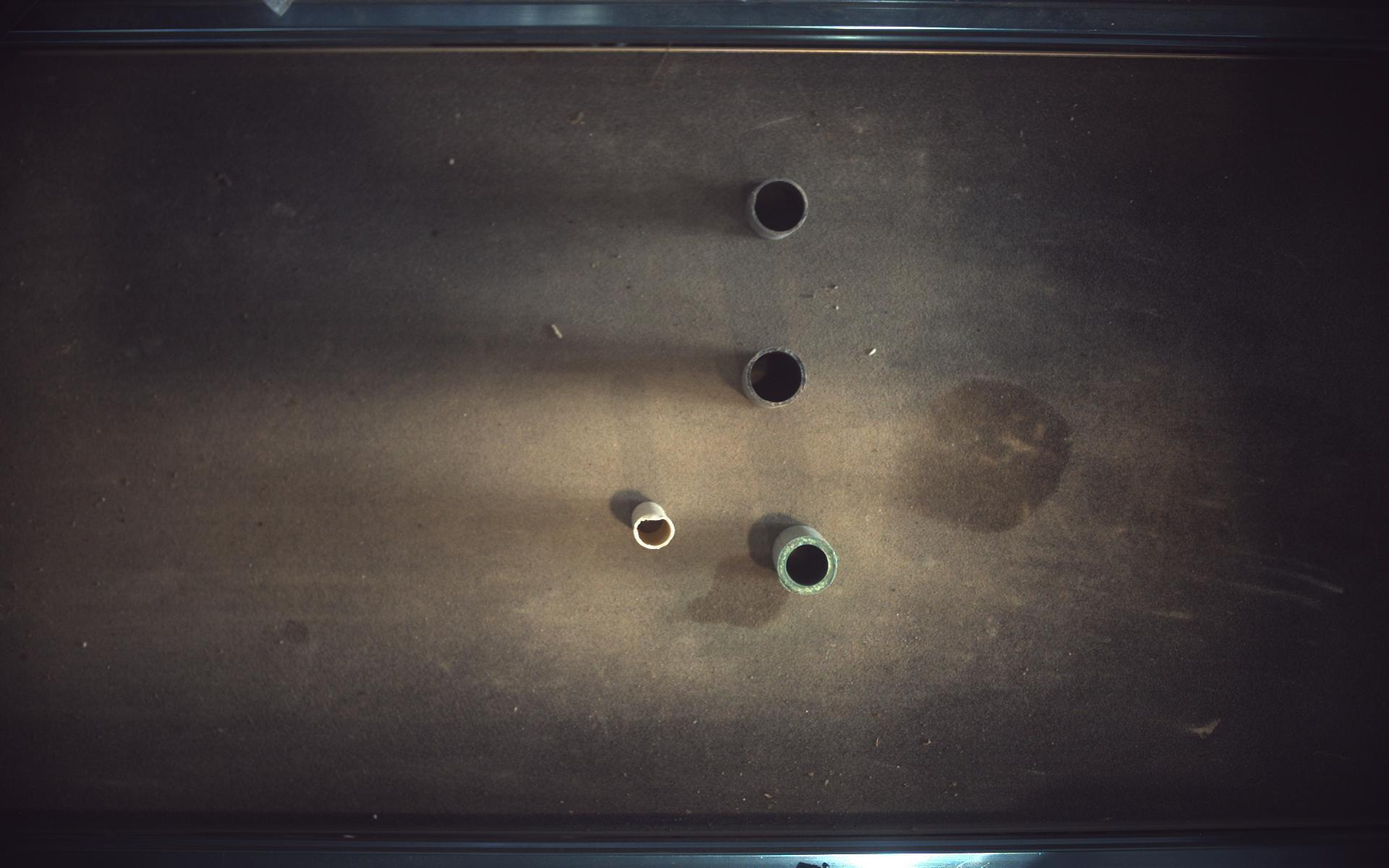pipes: (774, 526, 838, 595), (743, 346, 809, 409), (747, 176, 810, 239), (633, 501, 676, 550)
